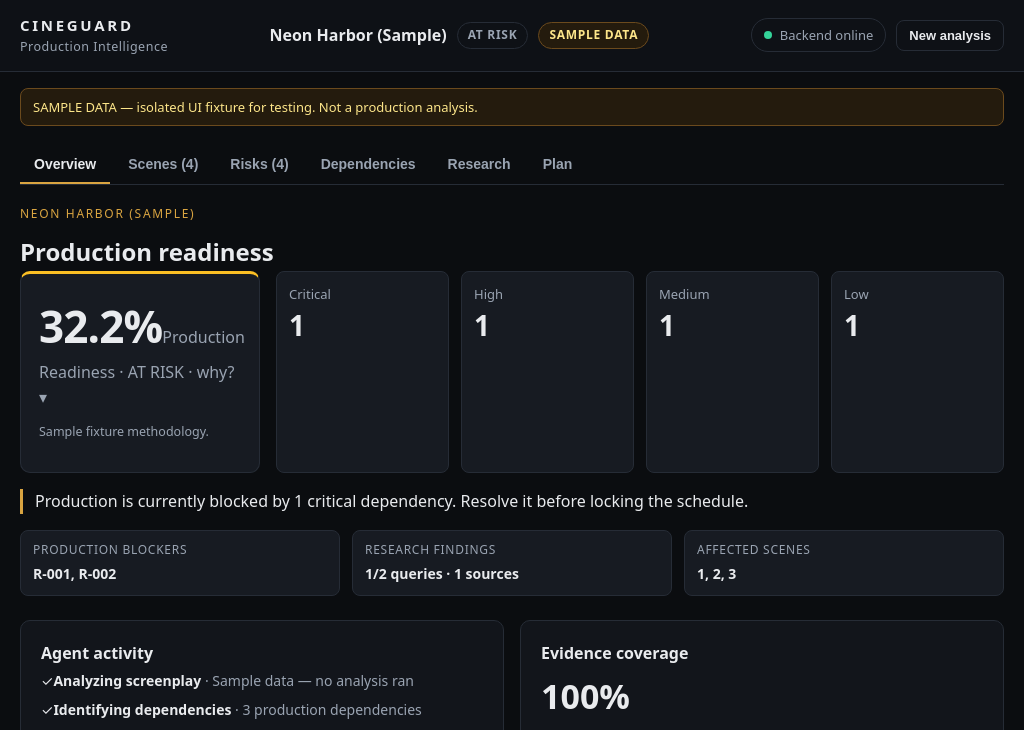
Command Center › summarizes the dependency graph from real data
The image size is (1024, 730).
Click the tab "Dependencies" at [368, 165], box [307,146,430,184]
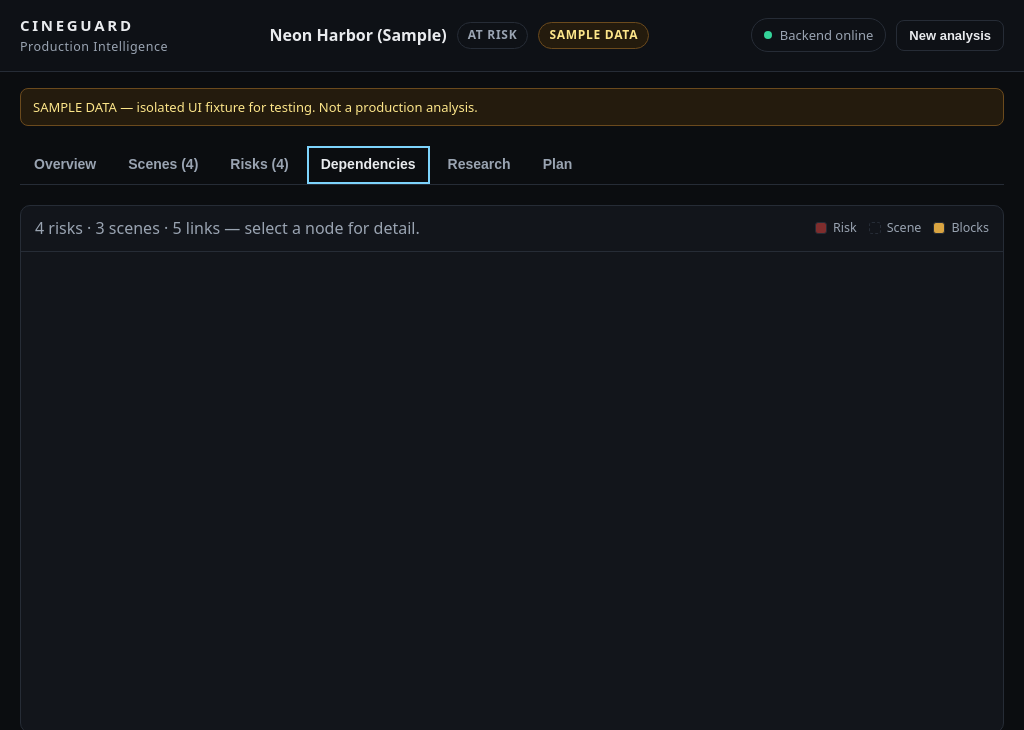
expect the list item "Risk" is shown: met, box [815,218,857,238]
expect the text "4 risks · 3 scenes · 5 links — select a node for detail." is shown: met, box [35,216,420,241]
